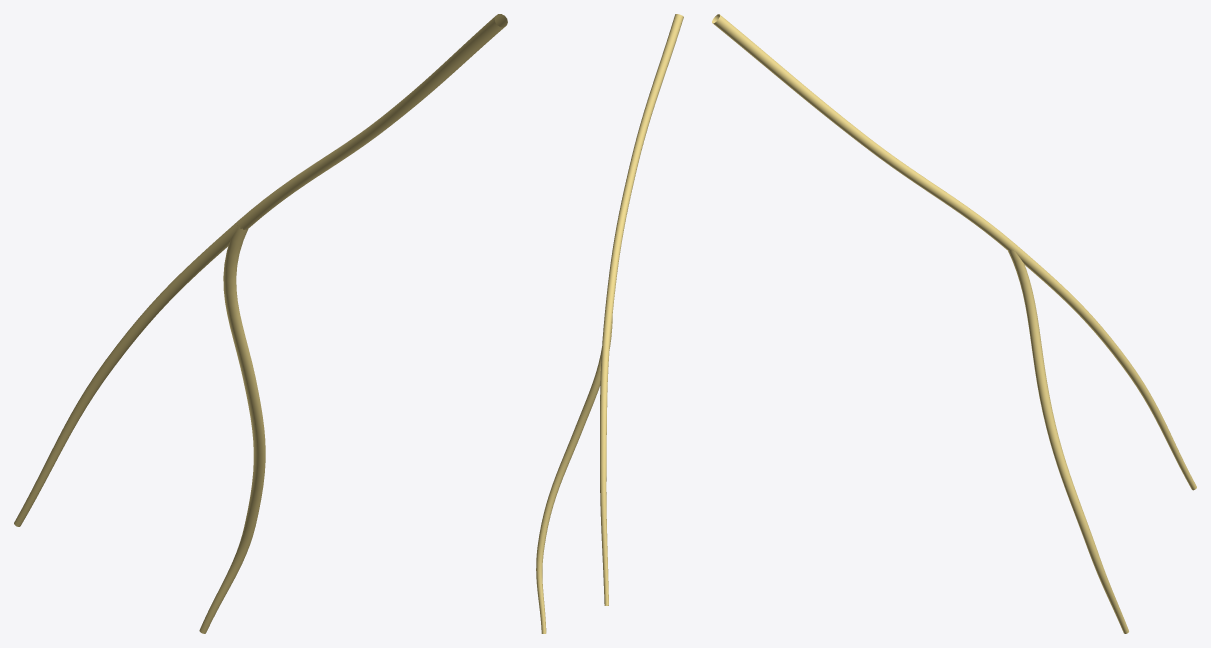
3 renders of one model, left to right at view 1: azimuth 30°, elevation 25°; view 2: azimuth 150°, elevation 25°; view 3: azimuth 270°, elevation 25°, orthographic. The views are drawn at different scales.
Parts seen in each view (by area): view 1: ZA_e9c5dce4c3d28390; view 2: ZA_e9c5dce4c3d28390; view 3: ZA_e9c5dce4c3d28390.
Boxes of the visible parts, x1,y1,x2,y2 form: ZA_e9c5dce4c3d28390: (14,14,507,633); ZA_e9c5dce4c3d28390: (536,14,683,633); ZA_e9c5dce4c3d28390: (712,14,1196,633).
Bounding box in the file's own units: 0.0241 × 0.0947 × 0.0657.
